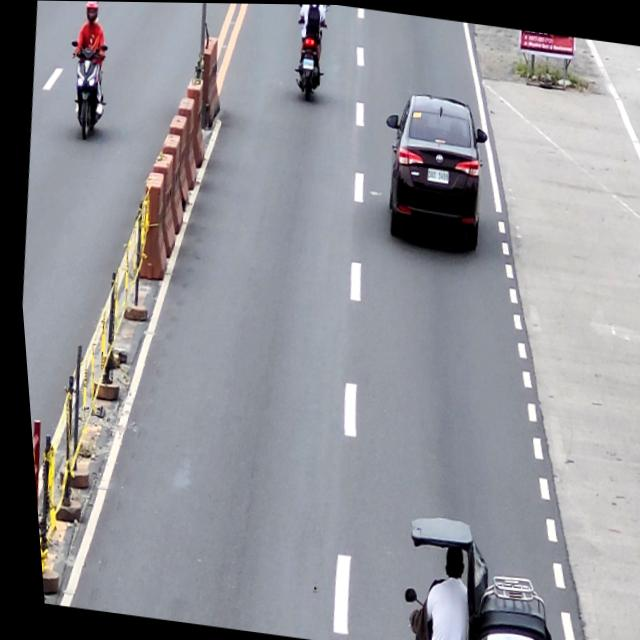Car: (369, 87, 496, 252)
License-Plate: (422, 166, 447, 182), (300, 56, 313, 69)
Motorcycle: (284, 3, 334, 105)
Tricycle: (385, 509, 554, 640)
